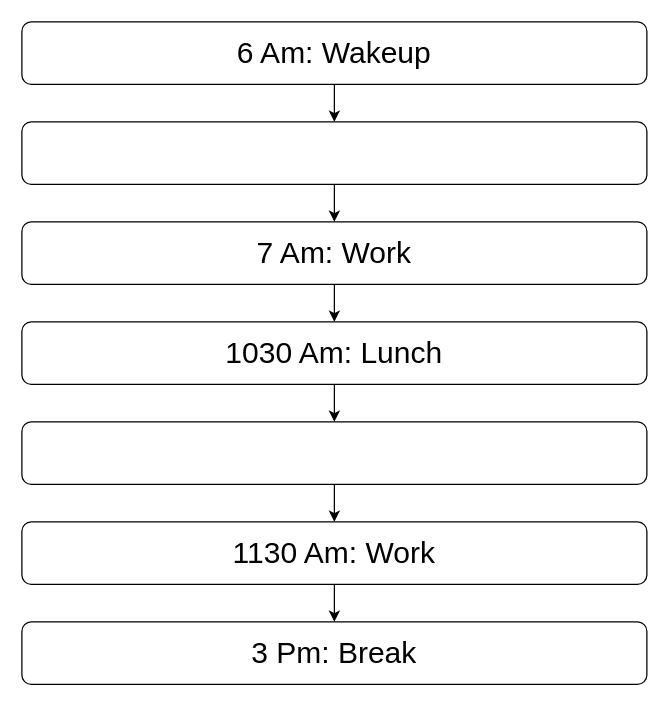
This 669x706 diagram has some shape labels left out. The shapes that lost their labels are listed below. From the top down, each one's centre as x and y in pixels, then its label:
(334,152): 630 Am: Coffee
(334,452): 11 Am: Workout
